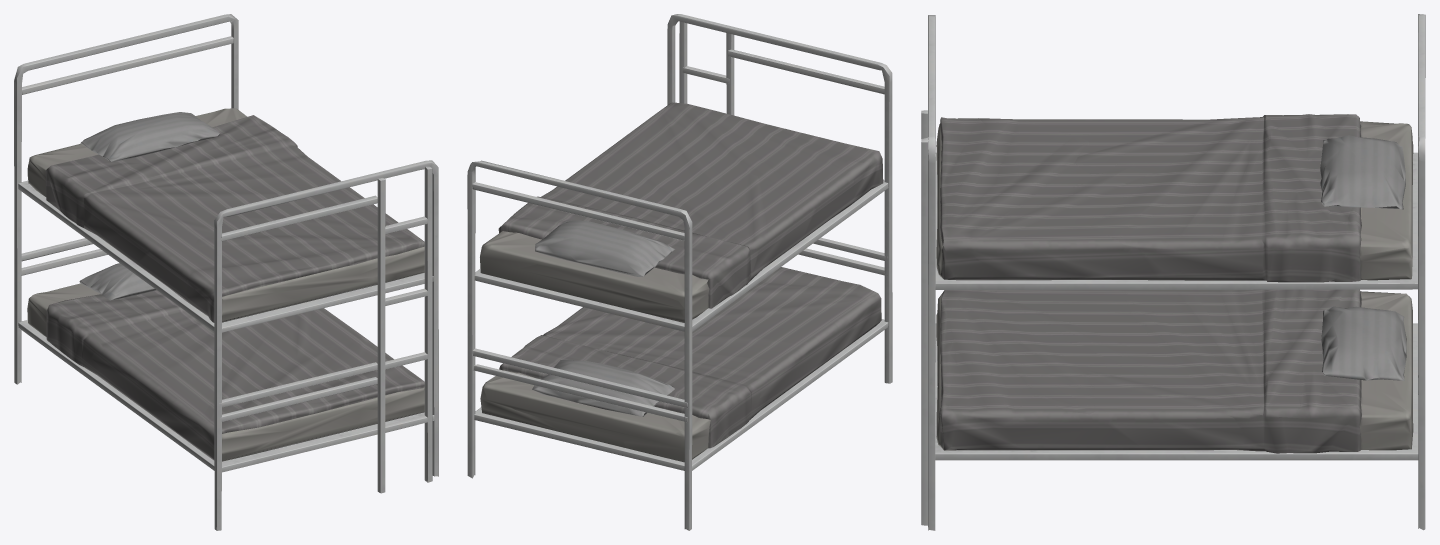
The model's file is ModernBed_C.glb.
3 views of the same model, side by side, from view 1: azimuth 30°, elevation 25°; view 2: azimuth 150°, elevation 25°; view 3: azimuth 270°, elevation 25° (orthographic). The views are drawn at different scales.
Parts seen in each view (by area): view 1: SM_BunkBed; view 2: SM_BunkBed; view 3: SM_BunkBed.
Part boxes in pixels (bbox=[...]): SM_BunkBed: bbox=[14, 14, 438, 530]; SM_BunkBed: bbox=[467, 14, 892, 530]; SM_BunkBed: bbox=[921, 14, 1425, 530].
Size of the model in its own units: 2.22 by 3.02 by 3.55.
Materials: 1 (1 with a texture image).
